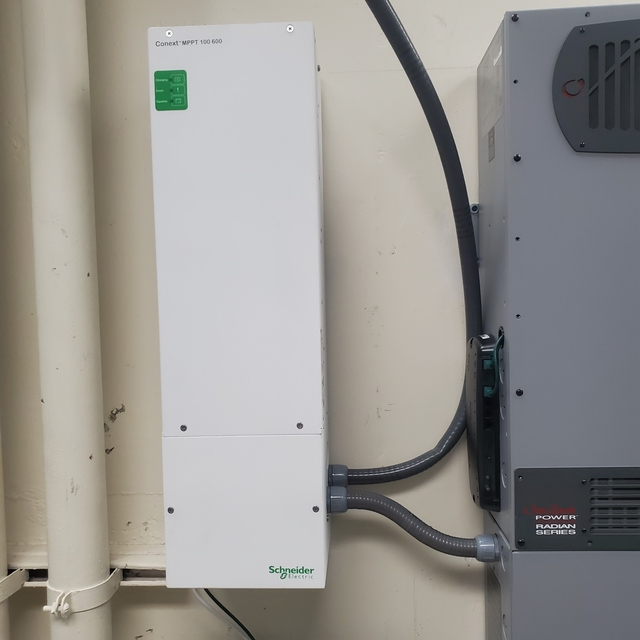charge_controller: (143, 17, 333, 591)
